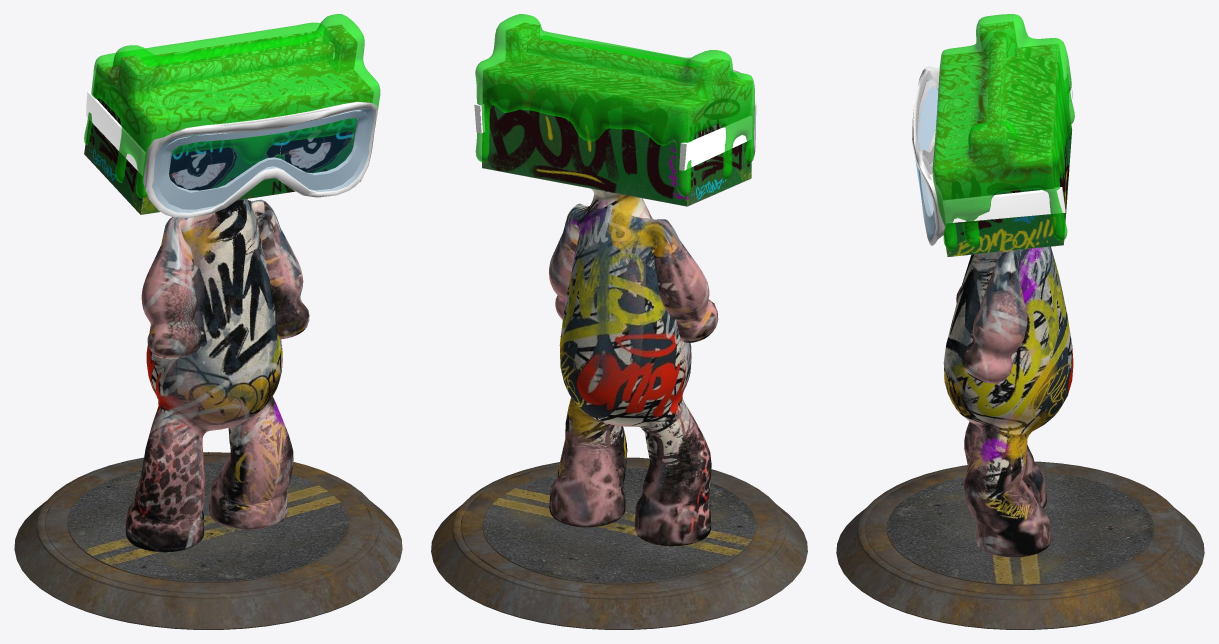
3 views of the same model, side by side, from view 1: azimuth 30°, elevation 25°; view 2: azimuth 150°, elevation 25°; view 3: azimuth 270°, elevation 25° (orthographic). The views are drawn at different scales.
Bounding box in the file's own units: 1.45 × 2.16 × 1.45.
Materials: 8 (4 with a texture image).
